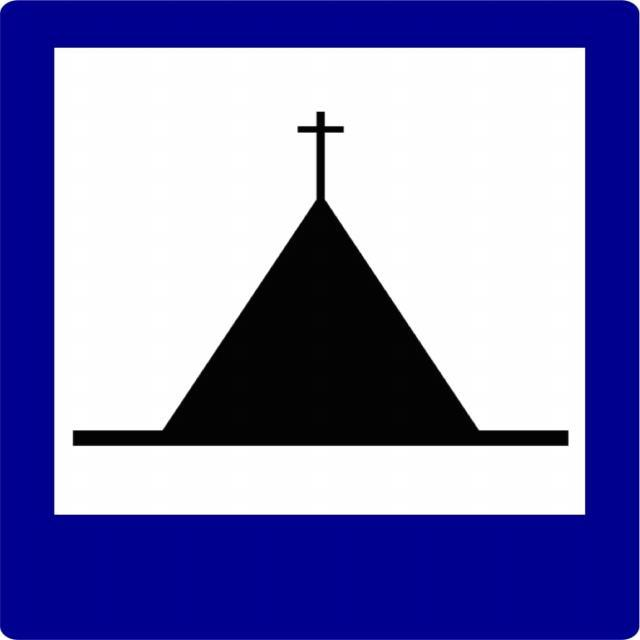Gereja: (7, 5, 632, 633)
